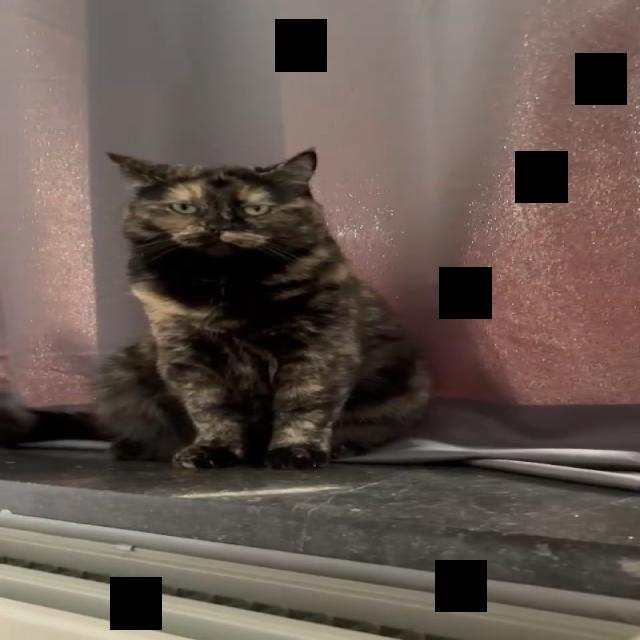authorized: (91, 146, 433, 470)
